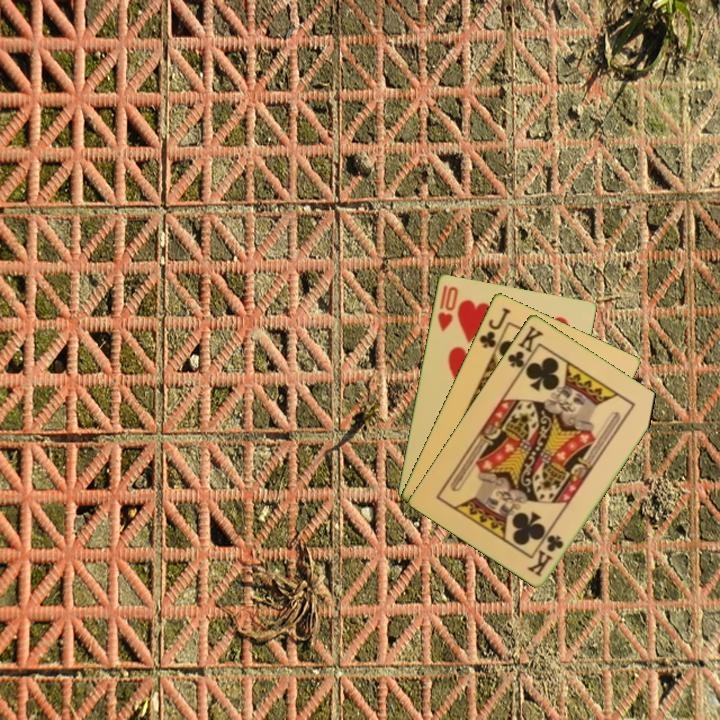10h: (434, 281, 461, 334)
Jc: (475, 304, 513, 351)
Kc: (504, 322, 546, 377), (525, 531, 567, 579)
